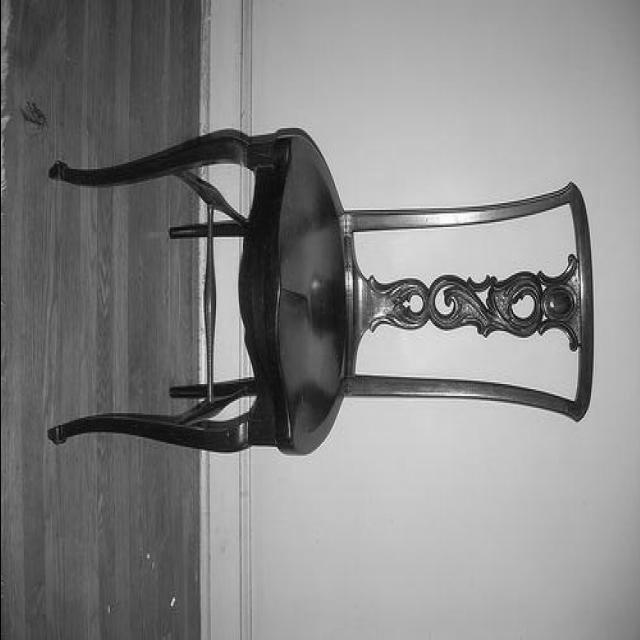chair: (34, 124, 594, 482)
